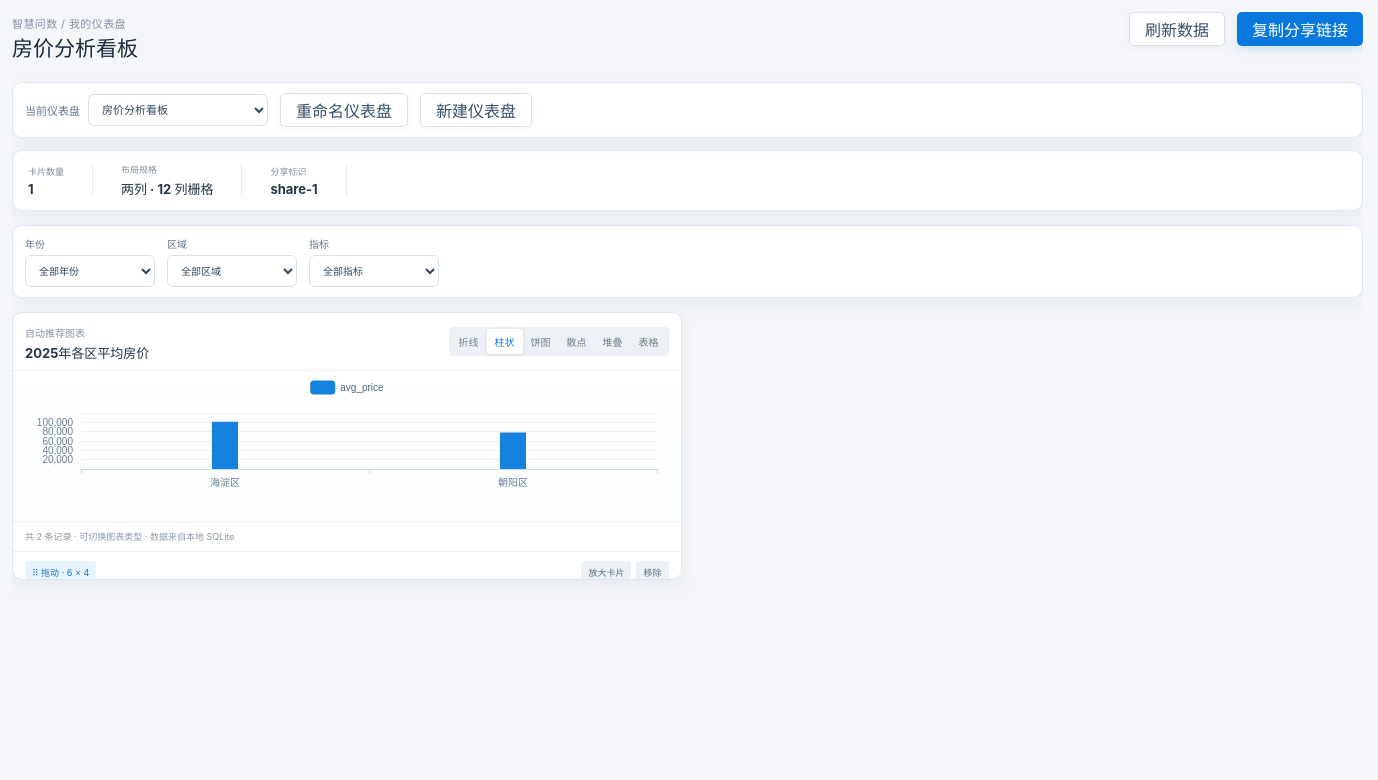
renames the selected dashboard
Expected: the heading "房价分析看板" is shown, [12,36,138,61]
Click the button "重命名仪表盘" at (344, 110), box [280,93,408,127]
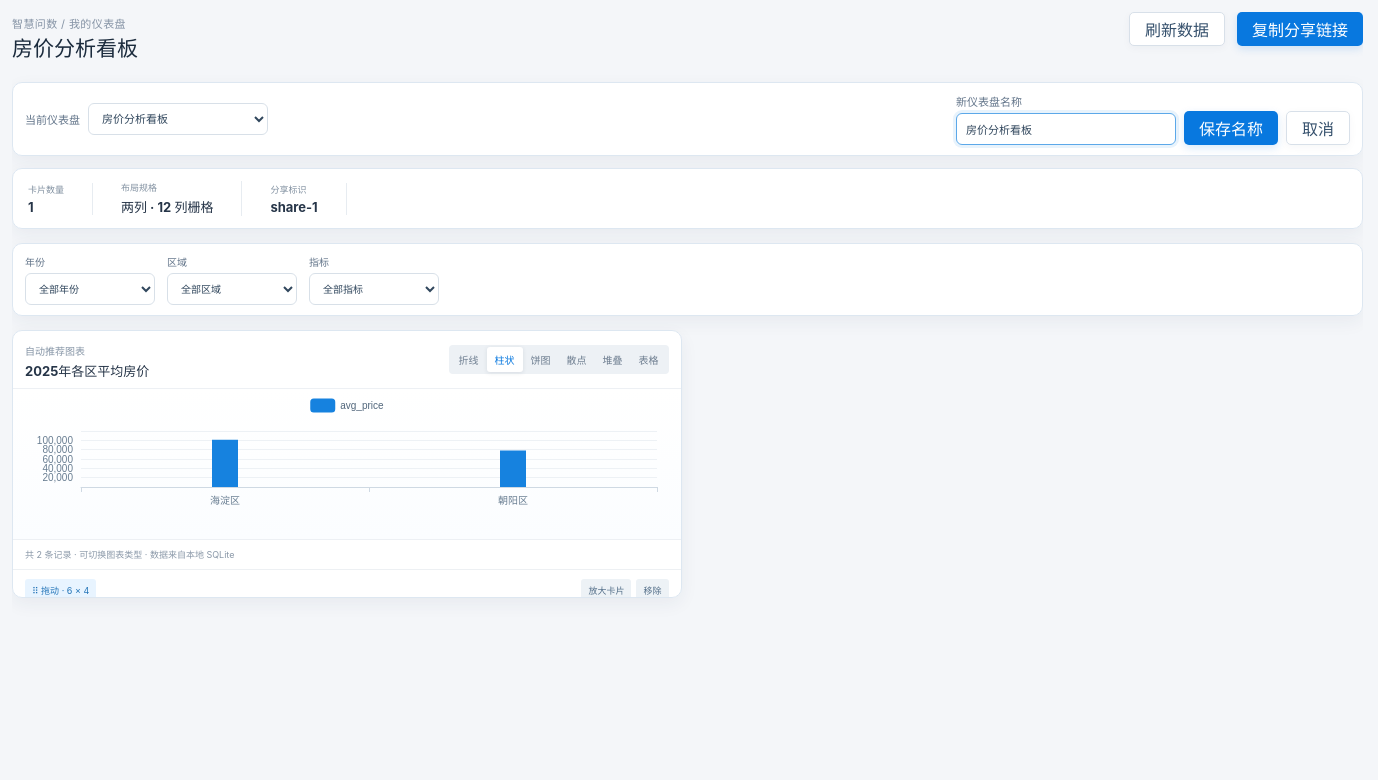
Replace the text in the field labelled "新仪表盘名称" with "2025区域成交看板" at (1066, 129), box [956,113,1176,145]
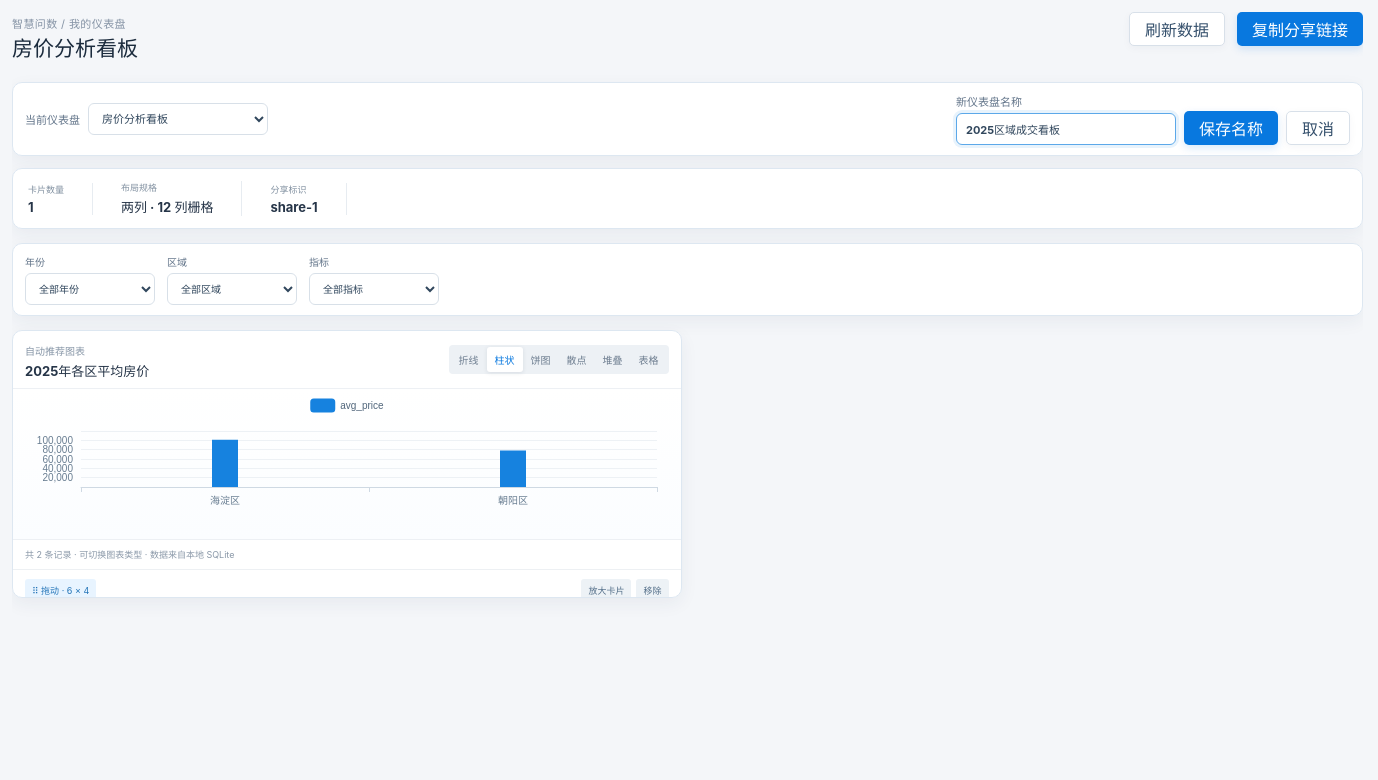
Click the button "保存名称" at (1231, 128), box [1184,111,1278,145]
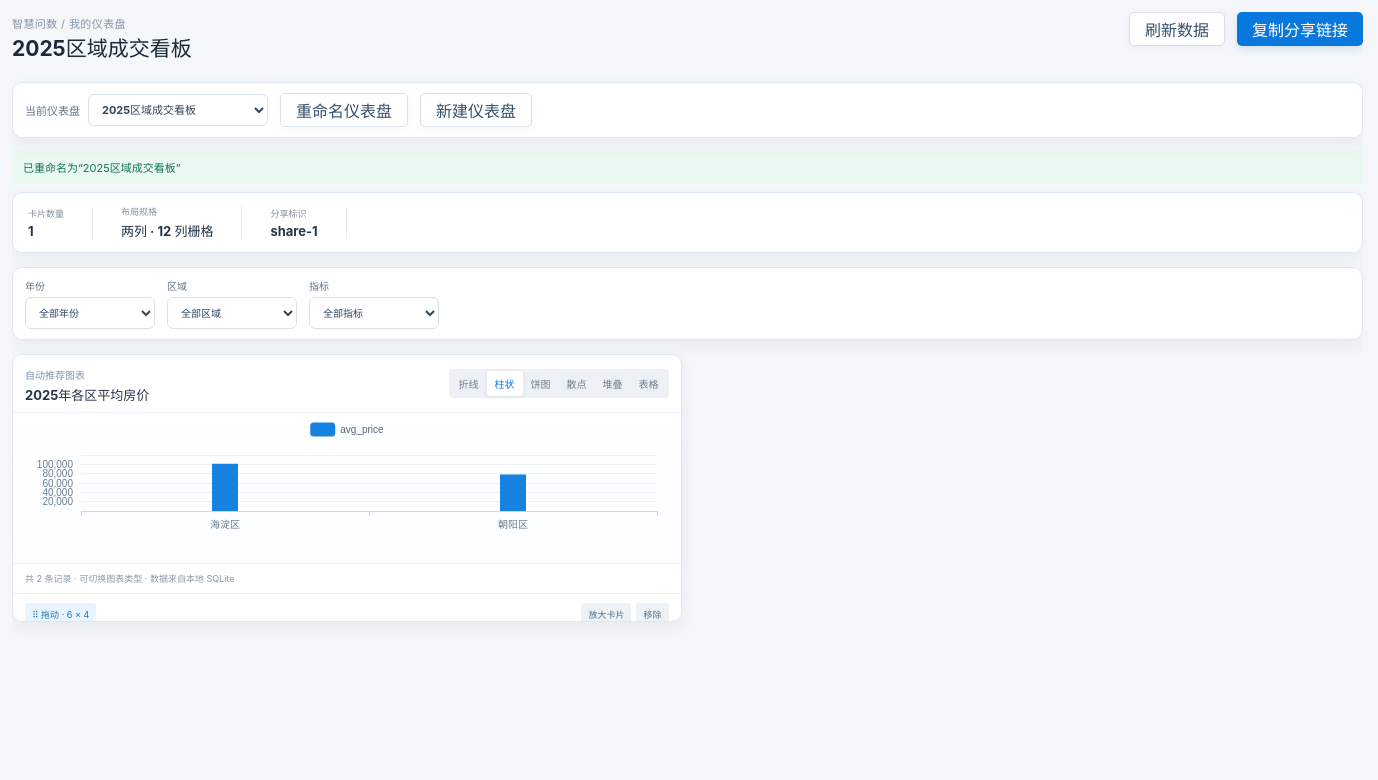
Result: the heading "2025区域成交看板" is shown at [12,36,192,61]
Result: the text "已重命名为“2025区域成交看板”" is shown at [12,150,1363,184]
